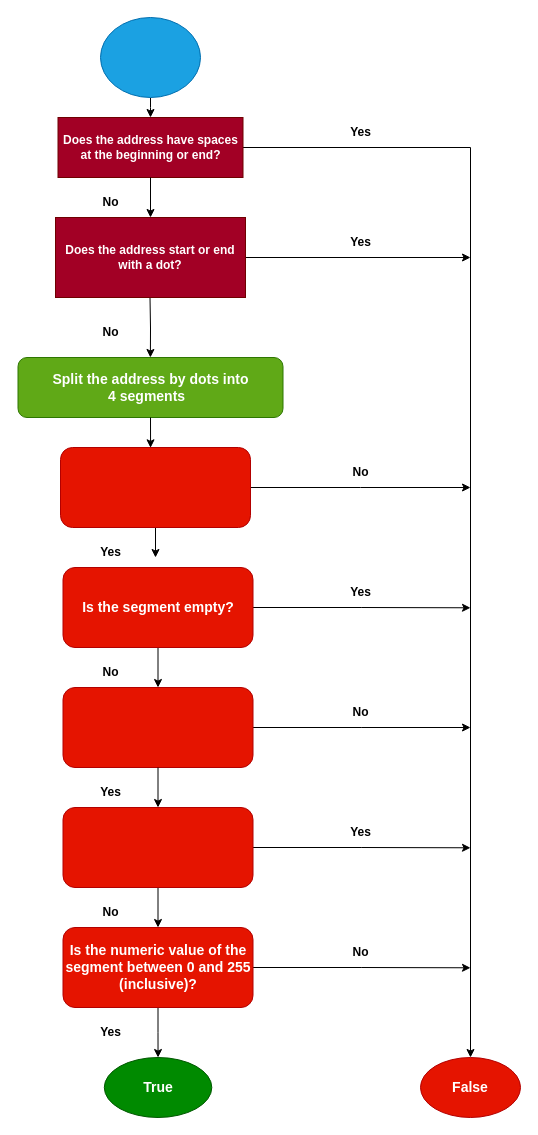
Image size: 538x1135. Some labels were removed from this diagram. The shapes that lost their labels are listed below. From the top down, each one's box as (x1, y1, x2, y2) in pixels, then its label:
(100, 16, 200, 98): Start
(60, 446, 250, 528): Are there exactly 4 segments?
(62, 686, 253, 768): Does the segment contain only d igits?
(62, 806, 253, 888): Does the segment start with 0 and have more than one digit?
